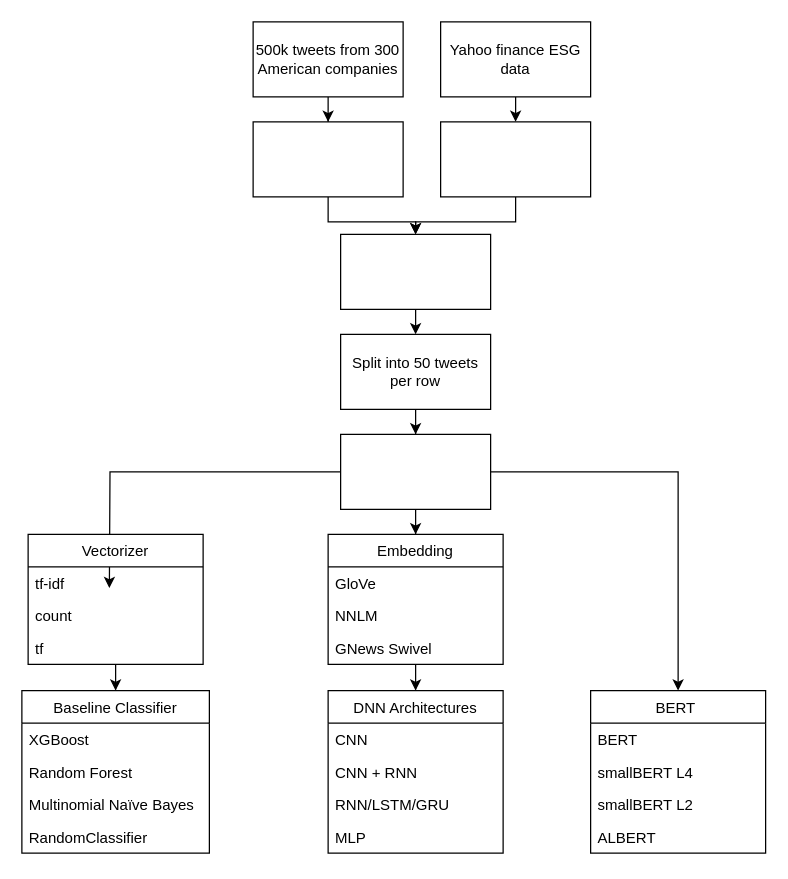
Image size: 788x879. Some labels were removed from this diagram. Here are the shapes that lost their labels. From the top down, the centre of each, then its label:
point 327,159: Tokenize Tweets
point 515,159: bin ESG Score
point 415,271: INNER JOIN
point 415,471: EDA
